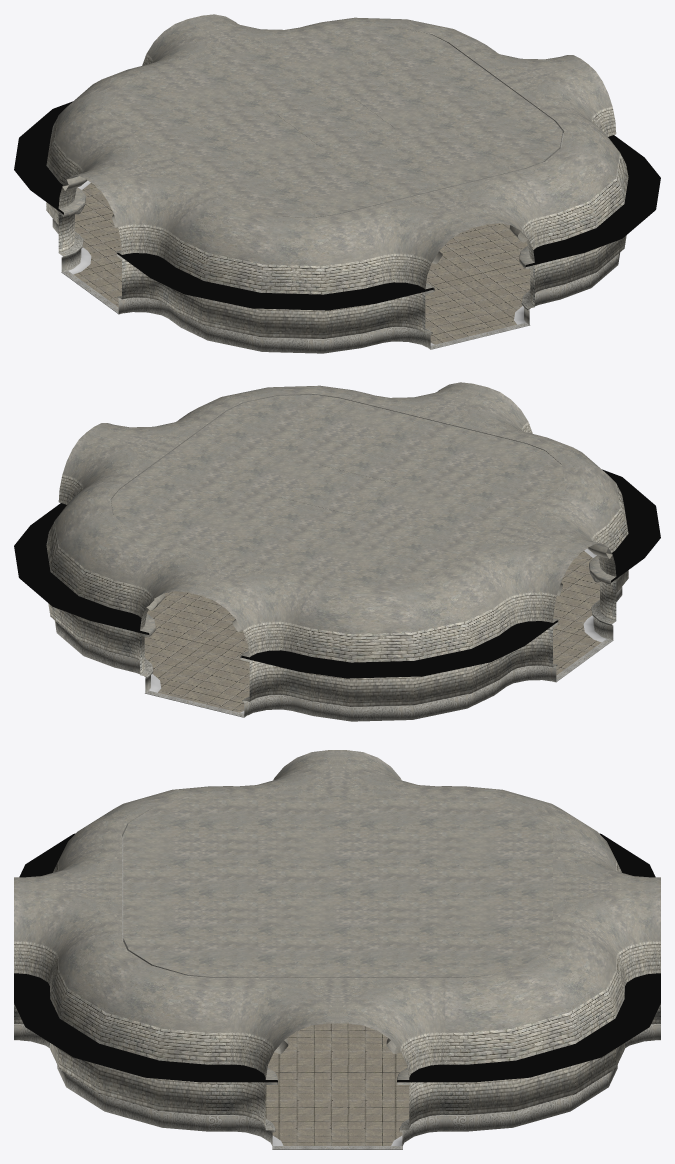
File: dungeon_room_04.fbx
3 renders of one model, top to bottom at view 1: azimuth 30°, elevation 25°; view 2: azimuth 150°, elevation 25°; view 3: azimuth 270°, elevation 25°, orthographic. The views are drawn at different scales.
Parts seen in each view (by area): view 1: dungeon_room_04_Roof, dungeon_room_04_Wall; view 2: dungeon_room_04_Roof, dungeon_room_04_Wall; view 3: dungeon_room_04_Roof, dungeon_room_04_Wall.
Boxes of the visible parts, x1,y1,x2,y2 form: dungeon_room_04_Roof: (46, 14, 628, 294); dungeon_room_04_Wall: (14, 101, 660, 353); dungeon_room_04_Roof: (46, 382, 628, 662); dungeon_room_04_Wall: (14, 469, 660, 721); dungeon_room_04_Roof: (14, 750, 660, 1080); dungeon_room_04_Wall: (14, 833, 660, 1149).
Bounding box in the file's own units: 270 × 58.19 × 270.
